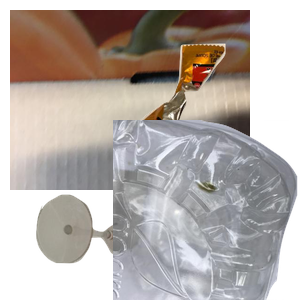cardboard: (10, 10, 250, 190)
glass: (34, 192, 187, 300)
plastic: (113, 120, 300, 300)
trash: (122, 41, 300, 190)
